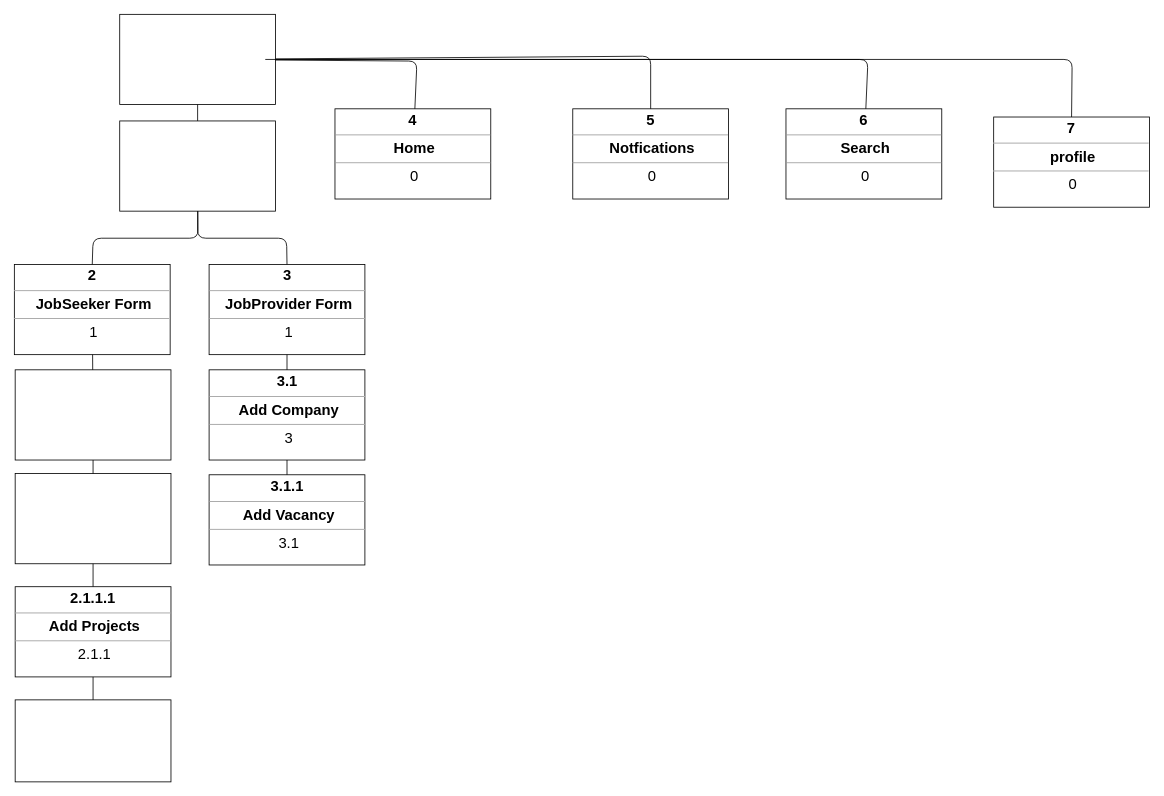
Some shapes in this 1164 by 796 pixel diagram are drawn without their labels. Here are the shapes that lost their labels. From the top down, the centre of each, then its label:
At pixel 197 59: "0 Login system".
At pixel 197 165: "1 Register 0 , system".
At pixel 92 414: "2.1 Build CV 2".
At pixel 92 518: "2.1.1 Add Experience 2.1".
At pixel 92 740: "2.1.1.1.1 Add Profile picture 2.1.1.1".
